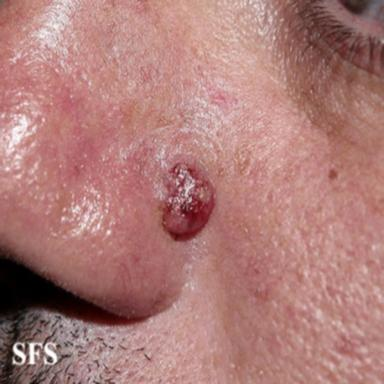basal-cell-carcinoma: (156, 162, 217, 242)
